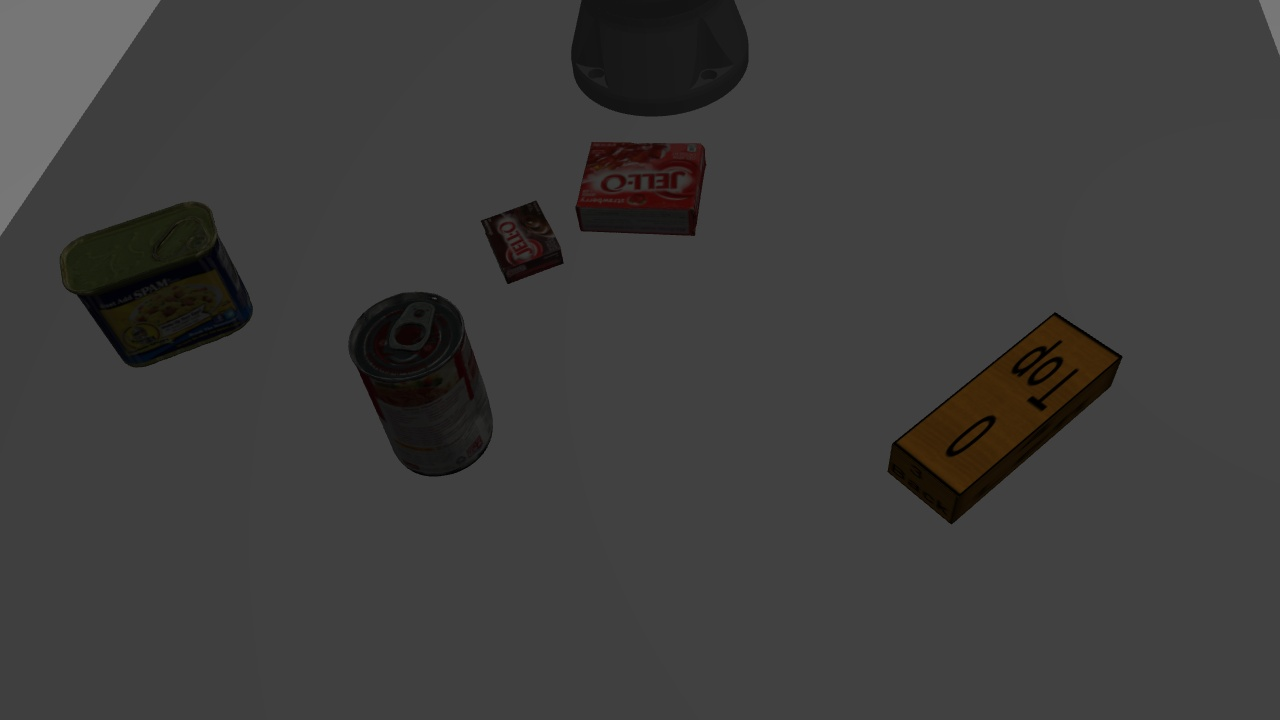gelatin_box: (573, 134, 715, 237)
jenga: (883, 304, 1127, 531)
potted_meat_can: (62, 203, 250, 367)
pudding_box: (478, 201, 563, 281)
tomato_soup_can: (344, 286, 499, 476), (332, 714, 335, 720)
